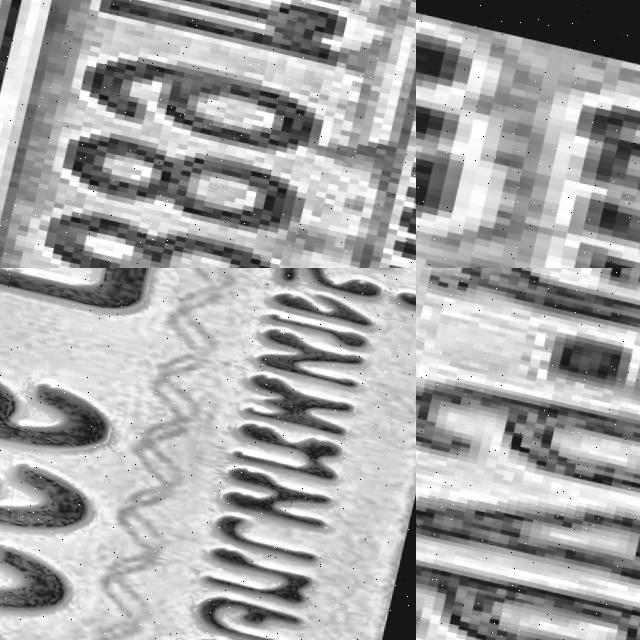license-plate: (0, 268, 416, 640), (0, 0, 416, 268), (416, 268, 640, 640), (416, 0, 640, 268)
